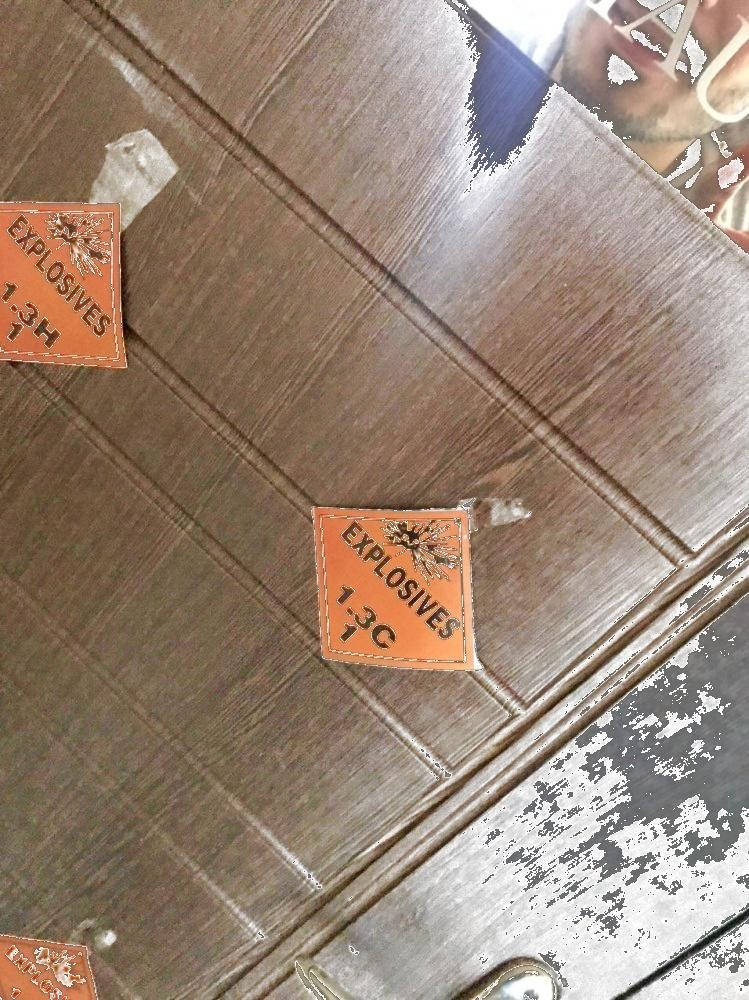explosive: (310, 506, 477, 673), (1, 202, 126, 371)
